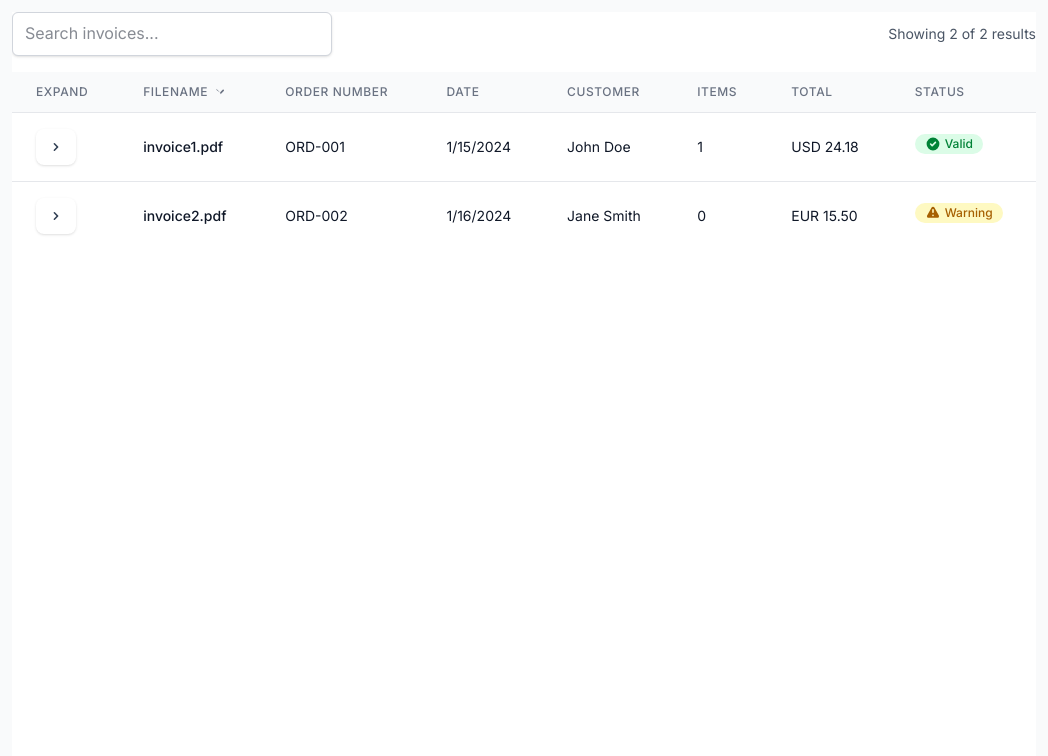
it: ResultsTable › toggles row expansion
Click the button named "Expand invoice1.pdf details". click: (56, 147)
box: left=36, top=129, right=76, bottom=165
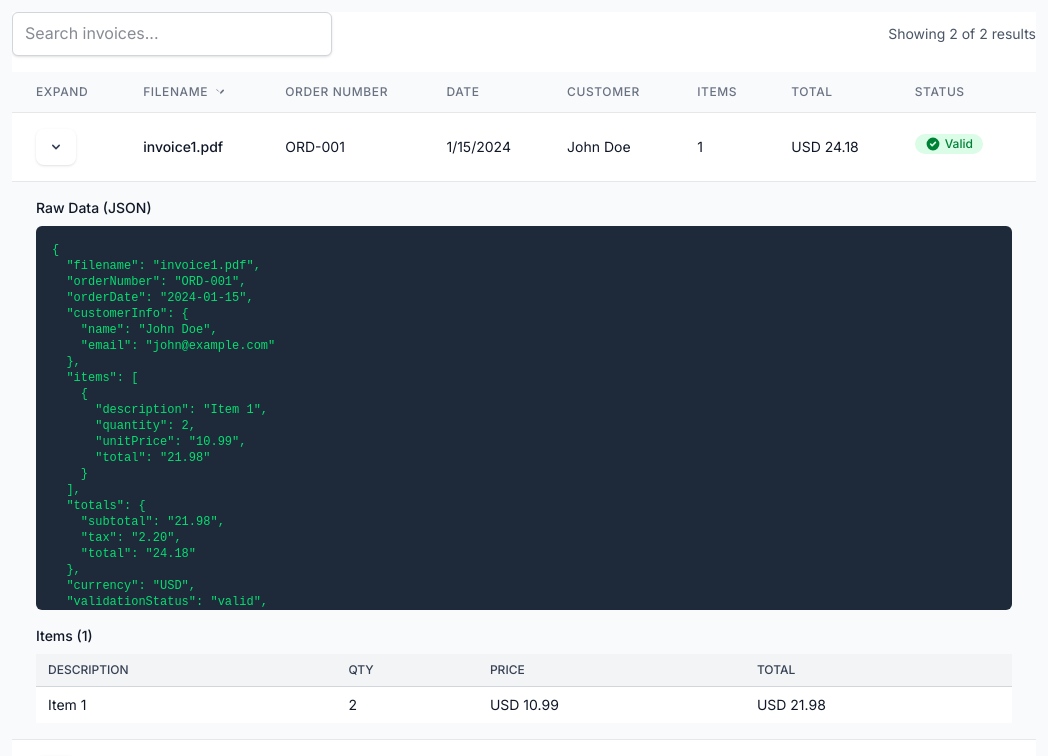
Now the button named "Collapse invoice1.pdf details" is shown, box left=36, top=129, right=76, bottom=165
